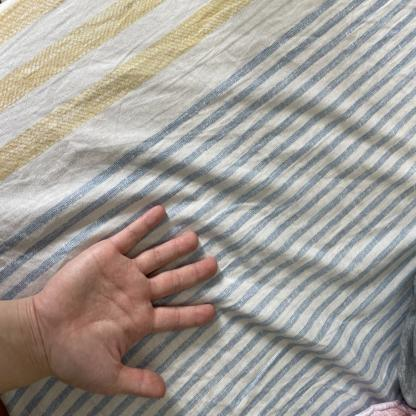bare_hand: (24, 198, 225, 416)
